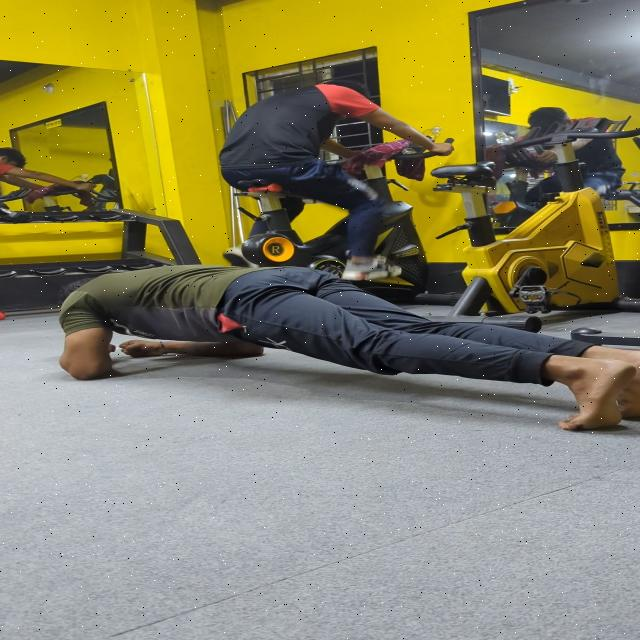Normal_Plunk: (0, 212, 640, 494)
